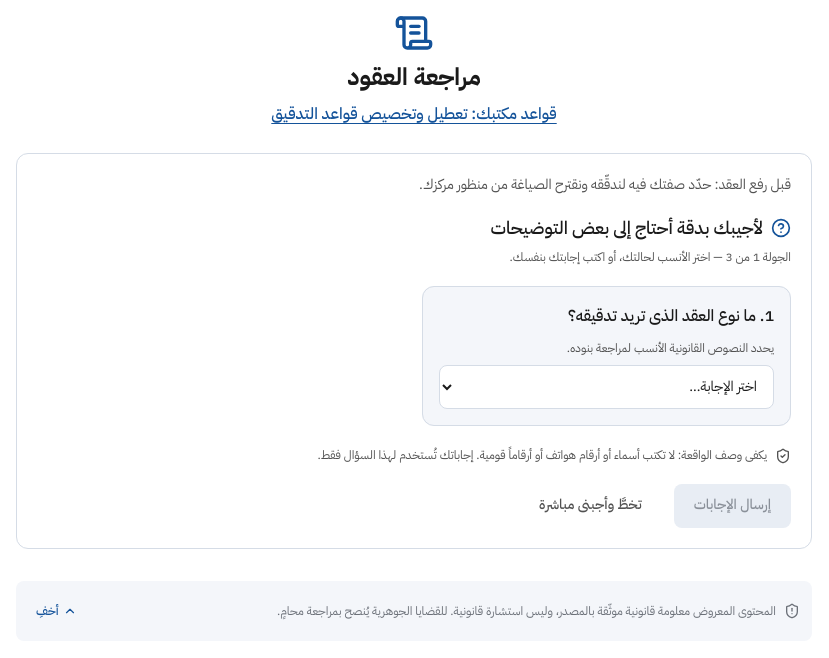
Scenario: ContractsScreen › يعرض نموذج الرفع دون جملة التعريف أو التنبيه الأعلى عند وجود جلسة
Click the button "تخطَّ وأجبنى مباشرة" at point(590, 506), box [519, 484, 662, 528]
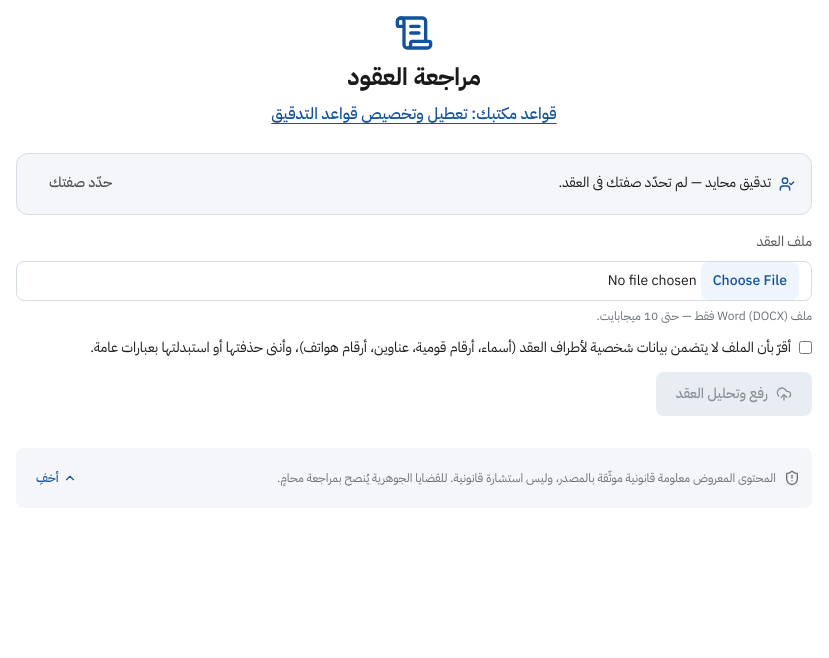
Check: the file field labelled "ملف العقد" is shown, box [16, 261, 812, 301]
